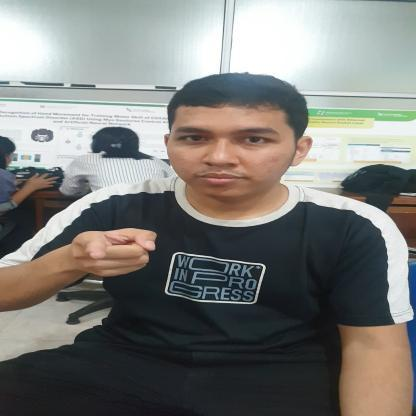Kamu: (39, 204, 169, 302)
